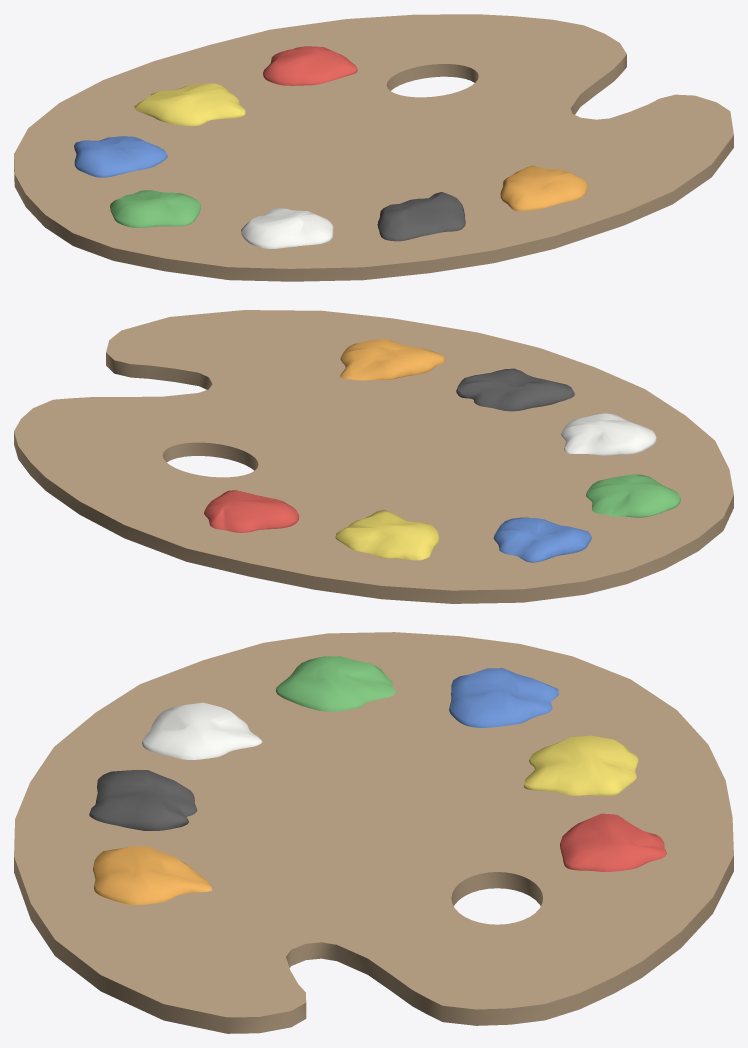
Rendered from palette.glb.
3 renders of one model, top to bottom at view 1: azimuth 30°, elevation 25°; view 2: azimuth 150°, elevation 25°; view 3: azimuth 270°, elevation 25°, orthographic. The views are drawn at different scales.
Parts seen in each view (by area): view 1: Base_0, Color2_2, Color6_6, Color3_3, Color7_7, Color5_5, Color1_1, Color4_4; view 2: Base_0, Color2_2, Color6_6, Color7_7, Color3_3, Color4_4, Color5_5, Color1_1; view 3: Base_0, Color2_2, Color6_6, Color7_7, Color3_3, Color5_5, Color4_4, Color1_1.
Part boxes in pixels (x1,y1,x2,y2): Base_0: (14, 14, 733, 281); Color2_2: (134, 83, 245, 126); Color6_6: (377, 192, 465, 241); Color3_3: (74, 136, 167, 177); Color7_7: (500, 165, 587, 211); Color5_5: (241, 208, 333, 248); Color1_1: (263, 46, 357, 85); Color4_4: (110, 190, 200, 227); Base_0: (14, 310, 733, 603); Color2_2: (335, 510, 439, 560); Color6_6: (456, 368, 574, 411); Color7_7: (339, 339, 445, 380); Color3_3: (493, 517, 591, 562); Color4_4: (586, 474, 680, 517); Color5_5: (561, 413, 656, 455); Color1_1: (204, 490, 299, 532); Base_0: (14, 632, 733, 1033); Color2_2: (523, 735, 638, 795); Color6_6: (89, 770, 197, 830); Color7_7: (93, 846, 211, 904); Color3_3: (449, 668, 558, 727); Color5_5: (142, 702, 262, 759); Color4_4: (276, 656, 395, 711); Color1_1: (560, 813, 666, 871).
Bounding box in the file's own units: 15.14 × 0.5994 × 11.96.
